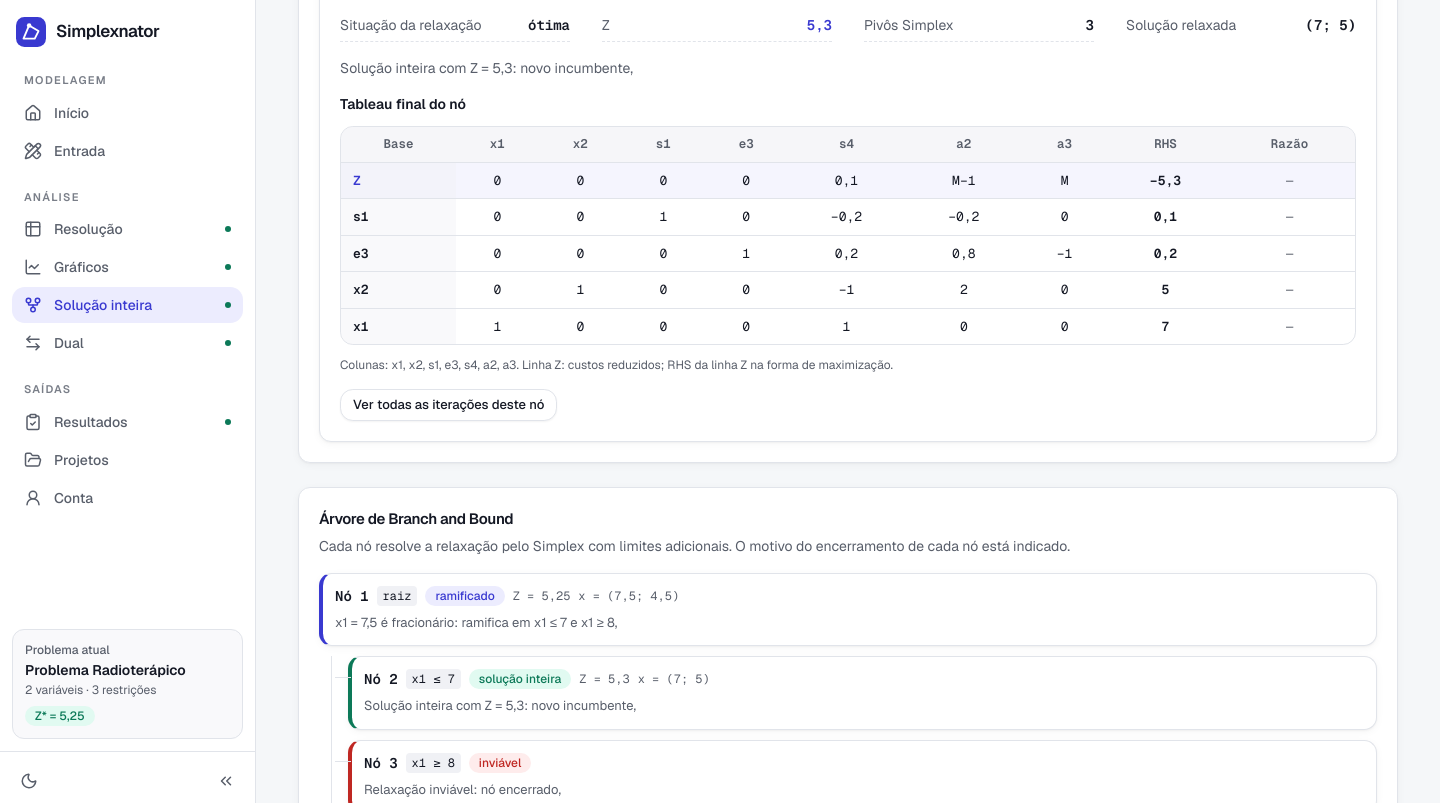
Test: Branch and Bound detalhado — Problema Radioterápico (minimização) › exibe o tableau final do nó selecionado e carrega todas as iterações sob demanda
(page scrolled)
Check: the heading "Tableau final do nó" is shown, box [340,95,466,113]
What coordinates should you click on to do the following:
click the button "Ver todas as iterações deste nó"
I would click on:
 (449, 405)
Its box is [340,389,557,421].
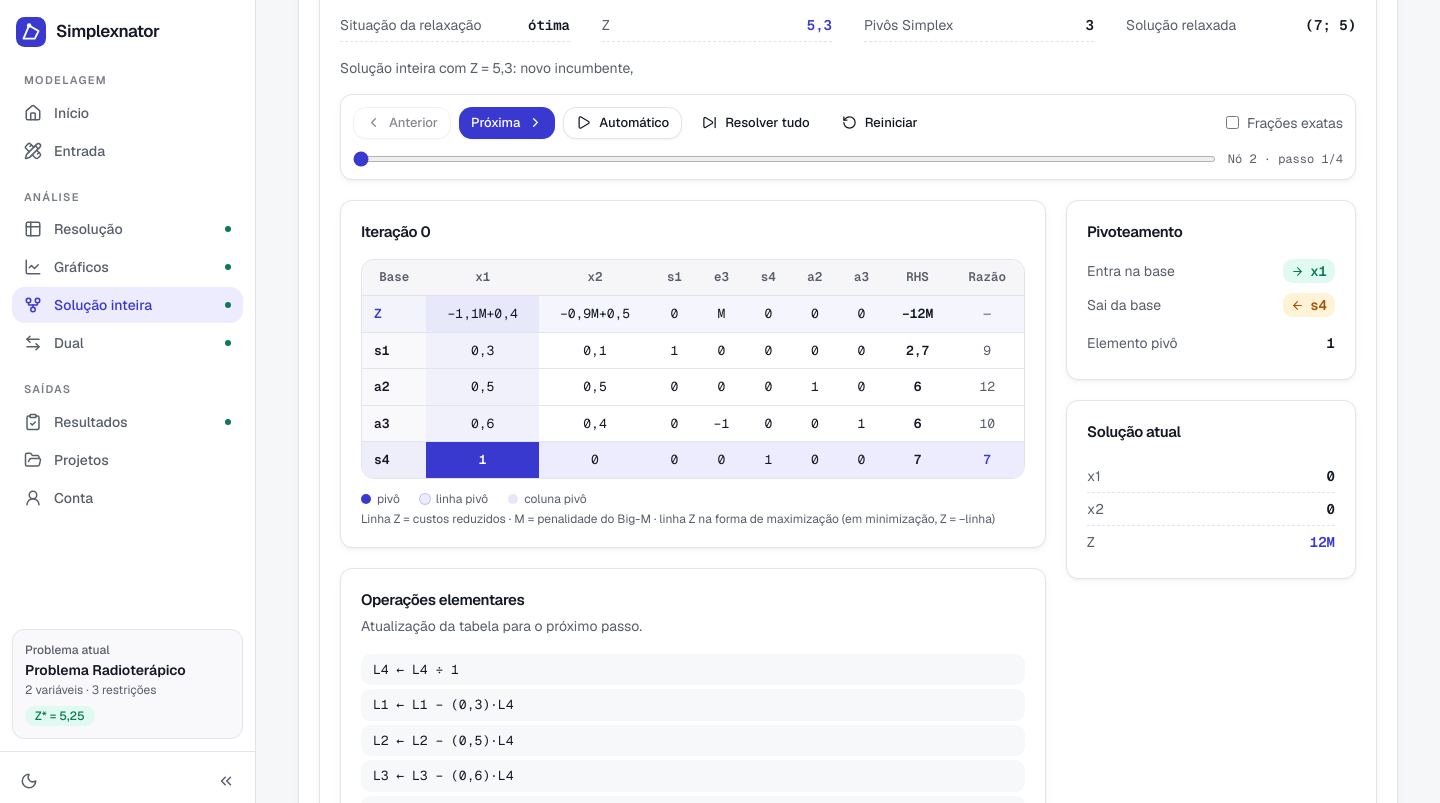
Check: the text "Problema Radioterápico" is shown, box [25,661,186,679]
Check: the text "Nó 2 · passo 1/4" is shown, box [1228,151,1343,167]
What coordinates should you click on to do the following:
click the button "Resolver tudo"
I would click on:
 (756, 123)
Its box is [690,107,822,139].
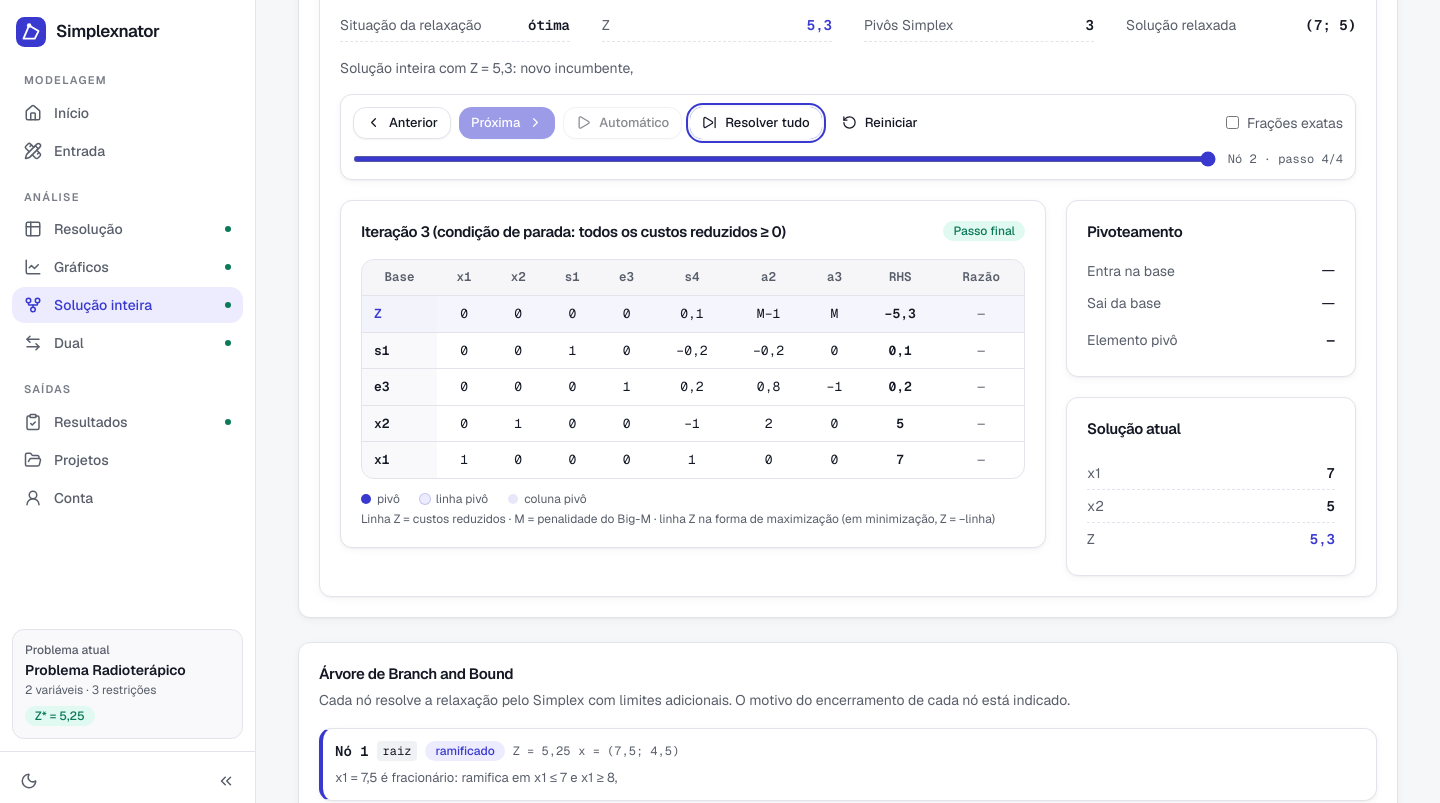
Check: the text "Passo final" is shown, box [943,221,1025,241]
